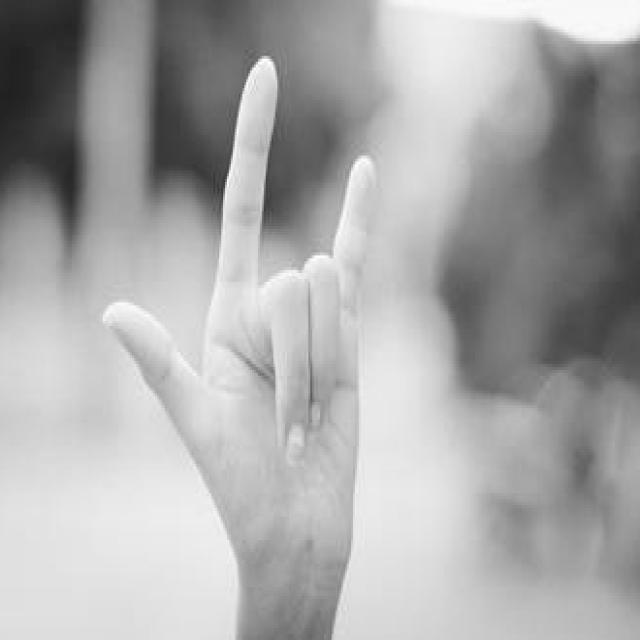i love you: (97, 47, 382, 640)
